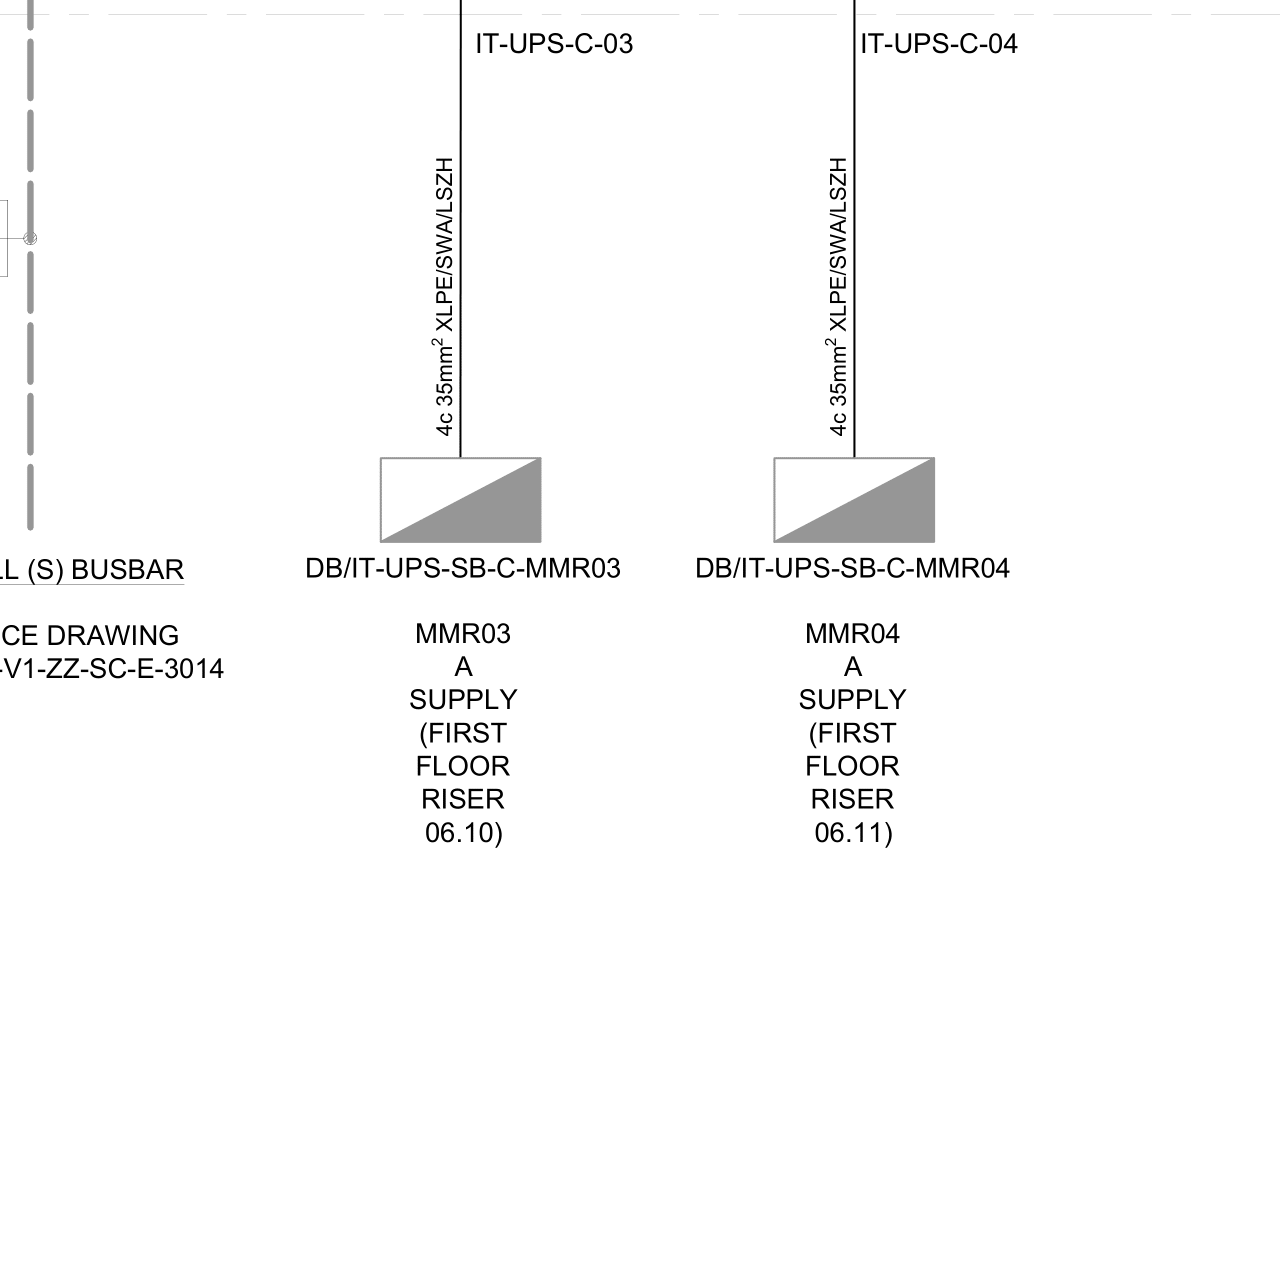Distribution Board: (757, 448, 946, 549), (370, 451, 557, 552)
